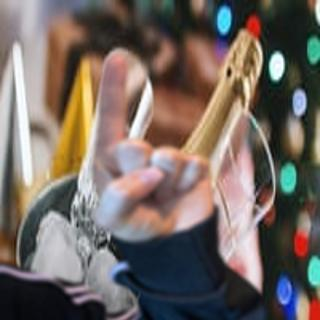IRRITATED: (81, 49, 217, 249)
